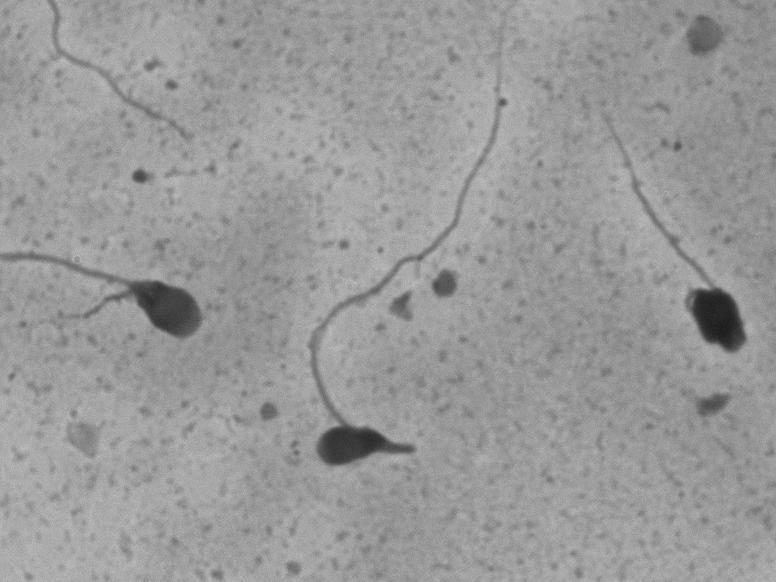Abnormal: (245, 98, 500, 490), (553, 94, 770, 372), (16, 176, 216, 380)
